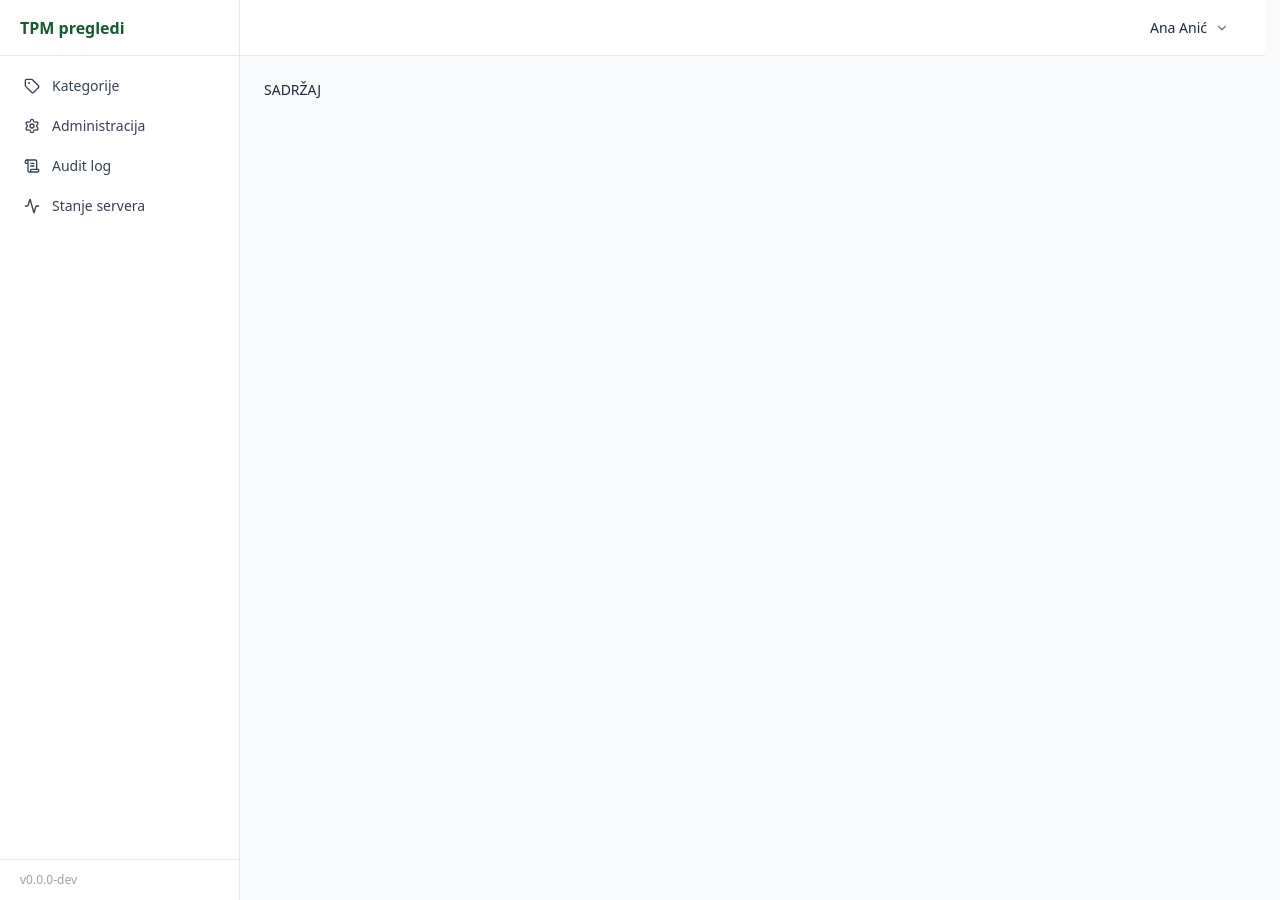
Test: AppLayout — header i korisnički meni › „Promena lozinke" otvara formu
Click the button "Ana Anić" at (1190, 28), box [1138,12,1241,44]
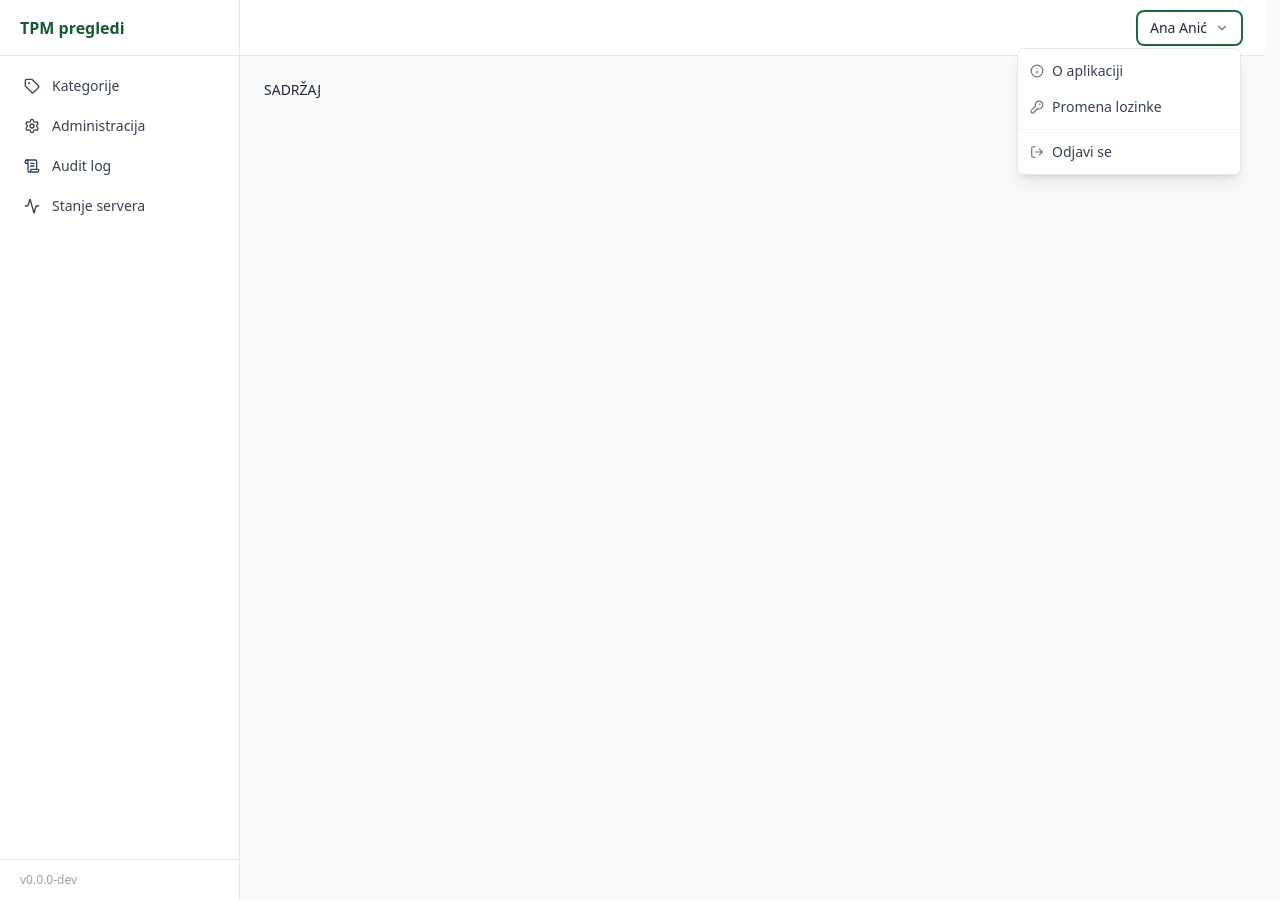
Click the menu item "Promena lozinke" at (1129, 106), box [1018,88,1240,124]
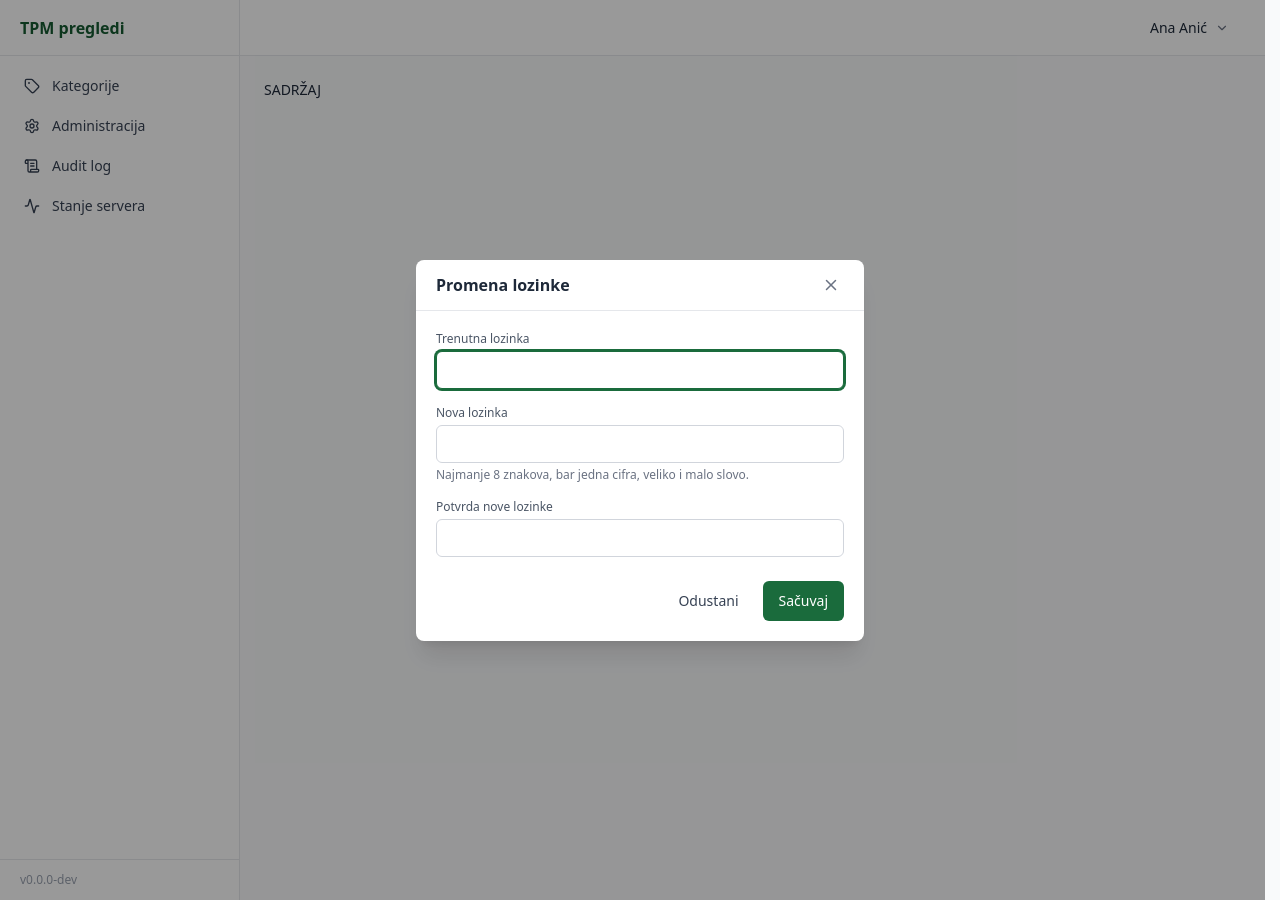
Expected: the dialog "Promena lozinke" is shown, [416,260,864,640]
